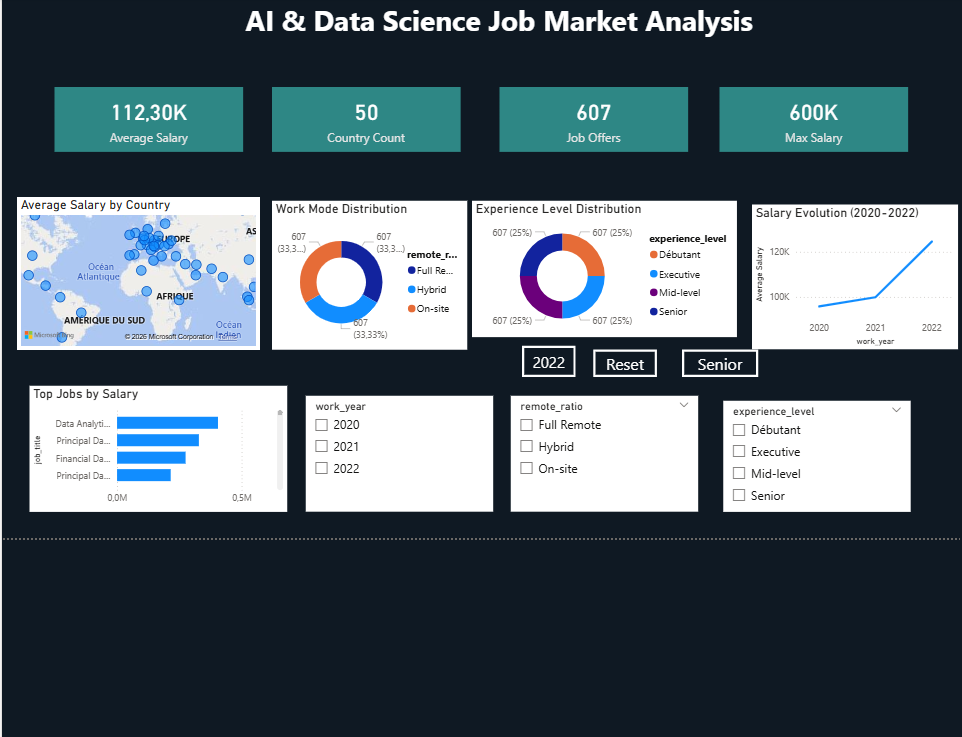

What the dashboard file says about the page in this screenshot:
{"tool":"powerbi","page":{"name":"Overview","canvas":[1280,720],"ordinal":0},"visuals":[{"type":"card","title":"Salaire Moyen $","fields":{"Values":["_Mesures.Salaire Moyen"]},"box":[69.9,119.8,251.3,86.6],"z":0},{"type":"card","fields":{"Values":["_Mesures.Nb Offres"]},"box":[662.5,119.8,251,86],"z":1000},{"type":"card","fields":{"Values":["_Mesures.Nb Pays"]},"box":[359.5,119.8,251,86],"z":2000},{"type":"clusteredBarChart","title":"Top Jobs by Salary","fields":{"Y":["_Mesures.Salaire Moyen"],"Category":["Dim_Metier.job_title"]},"box":[36.6,517.7,342.9,168.1],"z":3000},{"type":"lineChart","title":"Salary Evolution (2020-2022)","fields":{"Y":["ds_salaries.Salaire Moyen"],"Category":["Dim_Temps.work_year"]},"box":[998.7,276.3,274.6,193.1],"z":4000},{"type":"donutChart","title":"Experience Level Distribution","fields":{"Category":["ds_salaries.experience_level"],"Y":["ds_salaries.Nb Offres"]},"box":[625.9,271.3,352.9,181.4],"z":5000},{"type":"map","title":"Average Salary by Country","fields":{"Category":["ds_salaries.company_location"],"Size":["ds_salaries.Salaire Moyen"]},"box":[20,266.3,322.9,203.1],"z":6000},{"type":"donutChart","title":"Work Mode Distribution","fields":{"Category":["ds_salaries.remote_ratio"],"Y":["ds_salaries.Nb Offres"]},"box":[359.5,271.3,259.7,198.1],"z":7000},{"type":"slicer","fields":{"Values":["ds_salaries.work_year"]},"box":[404.5,531,249.7,154.8],"z":8000},{"type":"slicer","fields":{"Values":["ds_salaries.experience_level"]},"box":[960.4,537.6,249.7,148.1],"z":9000},{"type":"slicer","fields":{"Values":["ds_salaries.remote_ratio"]},"box":[677.5,531,249.7,154.8],"z":10000},{"type":"textbox","box":[0,0,1998.7,84],"z":11000},{"type":"card","fields":{"Values":["_Mesures.Salaire Max"]},"box":[955.4,119.8,251,86],"z":12000},{"type":"card","fields":{"Values":["_Mesures.Salaire Min"]},"box":[1588.9,127.6,325.8,110.9],"z":13000},{"type":"actionButton","box":[787.3,469.4,84.9,36.6],"z":14000},{"type":"actionButton","box":[692.4,464.4,71.6,41.6],"z":15000},{"type":"actionButton","box":[905.5,469.4,101.5,36.6],"z":16000}]}

Visuals, with their boxes on the page's 1280x720 design canvas (x1, y1, x2, y2). These are canvas units, not pixel positions in the 962x737 screenshot, which may show the page scaled, cropped or inside an application window:
"Salaire Moyen $" card: region(70, 120, 321, 206)
card - _Mesures.Nb Offres: region(662, 120, 914, 206)
card - _Mesures.Nb Pays: region(360, 120, 610, 206)
"Top Jobs by Salary" clusteredBarChart: region(37, 518, 380, 686)
"Salary Evolution (2020-2022)" lineChart: region(999, 276, 1273, 469)
"Experience Level Distribution" donutChart: region(626, 271, 979, 453)
"Average Salary by Country" map: region(20, 266, 343, 469)
"Work Mode Distribution" donutChart: region(360, 271, 619, 469)
slicer - ds_salaries.work_year: region(404, 531, 654, 686)
slicer - ds_salaries.experience_level: region(960, 538, 1210, 686)
slicer - ds_salaries.remote_ratio: region(678, 531, 927, 686)
textbox: region(0, 0, 1999, 84)
card - _Mesures.Salaire Max: region(955, 120, 1206, 206)
card - _Mesures.Salaire Min: region(1589, 128, 1915, 238)
actionButton: region(787, 469, 872, 506)
actionButton: region(692, 464, 764, 506)
actionButton: region(906, 469, 1007, 506)
